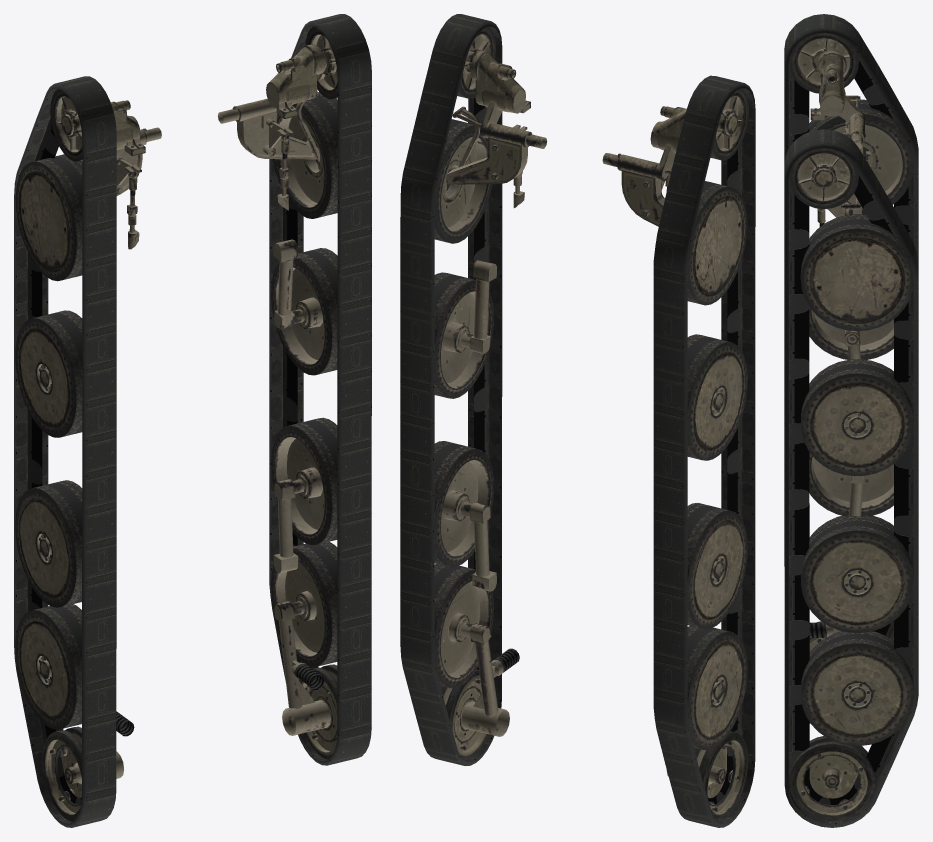
File: Chassis.glb
The picture shows the model from 3 angles, left to right: view 1: azimuth 30°, elevation 25°; view 2: azimuth 150°, elevation 25°; view 3: azimuth 270°, elevation 25°; orthographic projection. The views are drawn at different scales.
Visible parts, largest first — view 1: set_3_group_0, set_2_group_0, set_1_group_0, set_0_group_0; view 2: set_1_group_0, set_3_group_0, set_0_group_0, set_2_group_0; view 3: set_3_group_0, set_0_group_0, set_2_group_0, set_1_group_0.
Boxes of the visible parts, box(x1,y1,x2,y2) form: set_3_group_0: box(218, 26, 337, 759); set_2_group_0: box(15, 89, 161, 821); set_1_group_0: box(14, 76, 116, 827); set_0_group_0: box(269, 14, 371, 765); set_1_group_0: box(653, 75, 755, 827); set_3_group_0: box(434, 26, 547, 759); set_0_group_0: box(400, 14, 502, 765); set_2_group_0: box(602, 88, 748, 821); set_3_group_0: box(789, 147, 913, 821); set_0_group_0: box(784, 129, 918, 827); set_2_group_0: box(789, 32, 913, 652); set_1_group_0: box(784, 14, 918, 640).
Bounding box in the file's own units: 2.23 × 5.44 × 0.968.
Materials: 4 (4 with a texture image).
